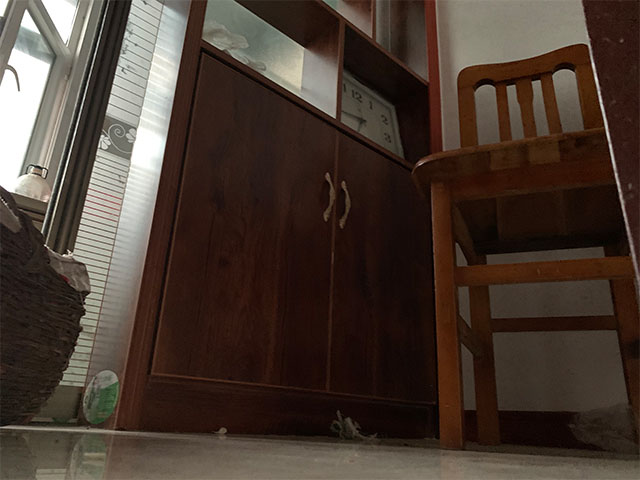cabinet: (117, 26, 443, 440)
stool: (410, 43, 640, 454)
